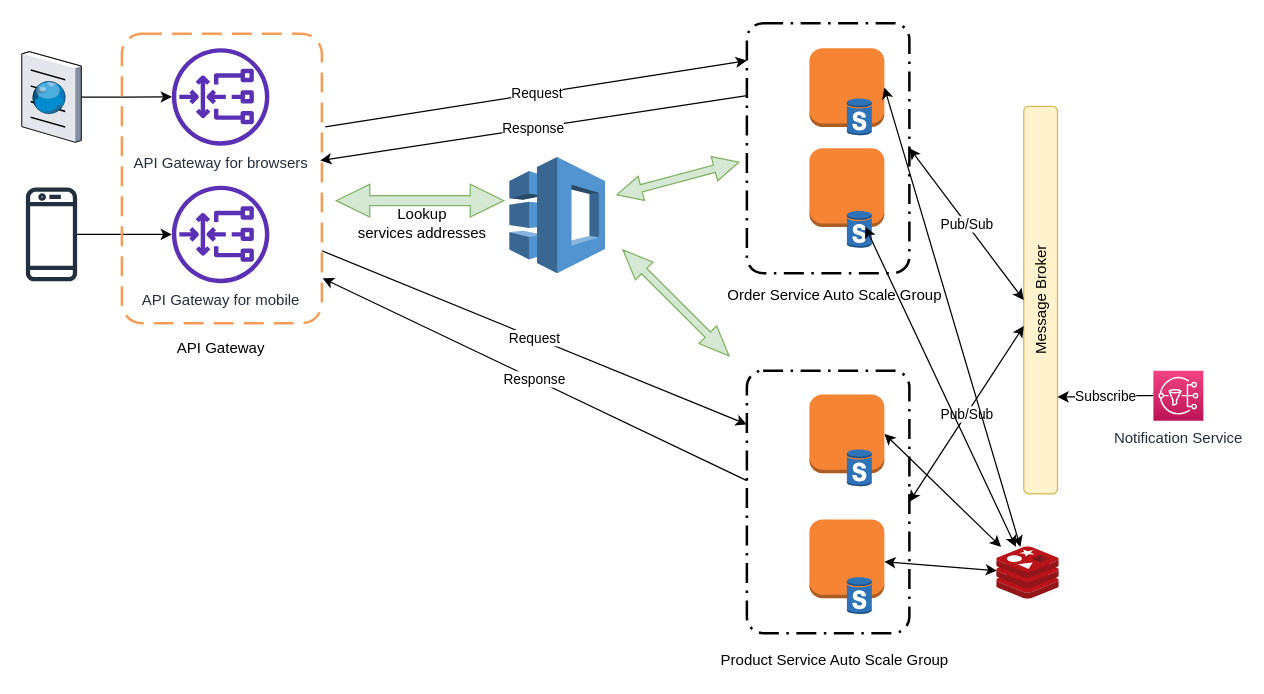
This 1264x694 diagram has some shape labels left out. The shapes that lost their labels are listed below. From the top down, each one's centre as x and y in pixels, then its label:
the point at 677,178: Register & Lookup services
the point at 556,214: Discovery Service
the point at 1027,572: Caching DB
